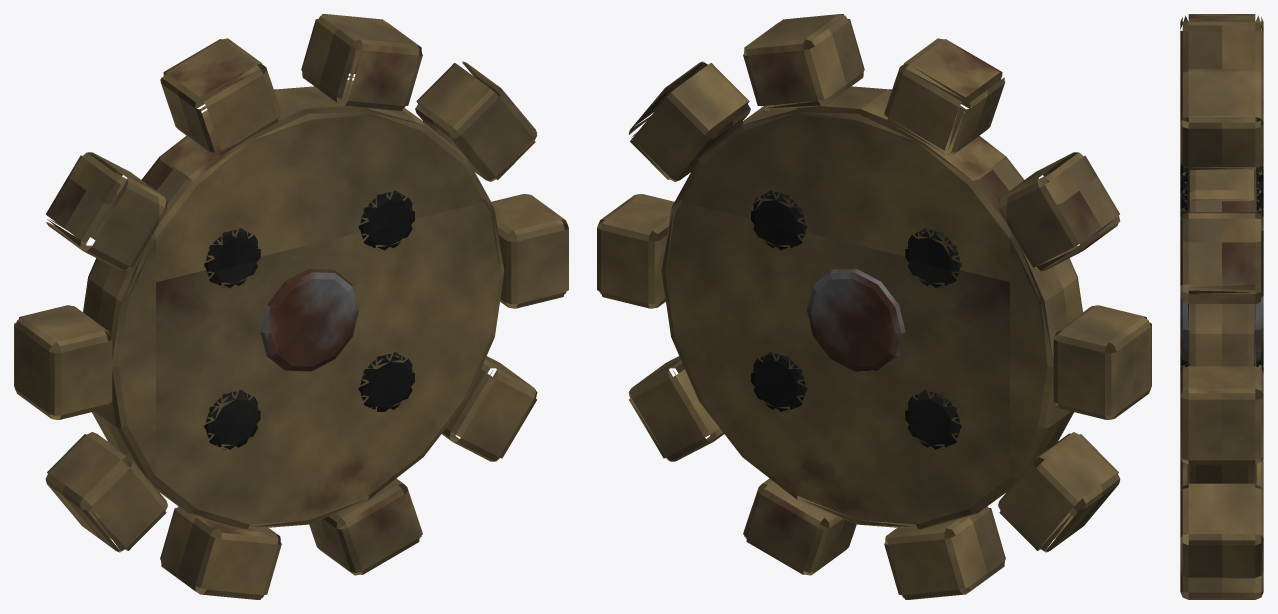
The model's file is P01_brass_gear_cog_v1.glb.
3 renders of one model, left to right at view 1: azimuth 30°, elevation 25°; view 2: azimuth 150°, elevation 25°; view 3: azimuth 270°, elevation 25°, orthographic. The views are drawn at different scales.
Visible parts, largest first — view 1: P01_brass_gear_cog_v1; view 2: P01_brass_gear_cog_v1; view 3: P01_brass_gear_cog_v1.
Boxes of the visible parts, x1,y1,x2,y2 form: P01_brass_gear_cog_v1: (14,14,568,599); P01_brass_gear_cog_v1: (597,14,1151,599); P01_brass_gear_cog_v1: (1180,14,1263,599).
Size of the model in its own units: 0.3 by 0.296 by 0.0431.
Materials: 3 (3 with a texture image).
